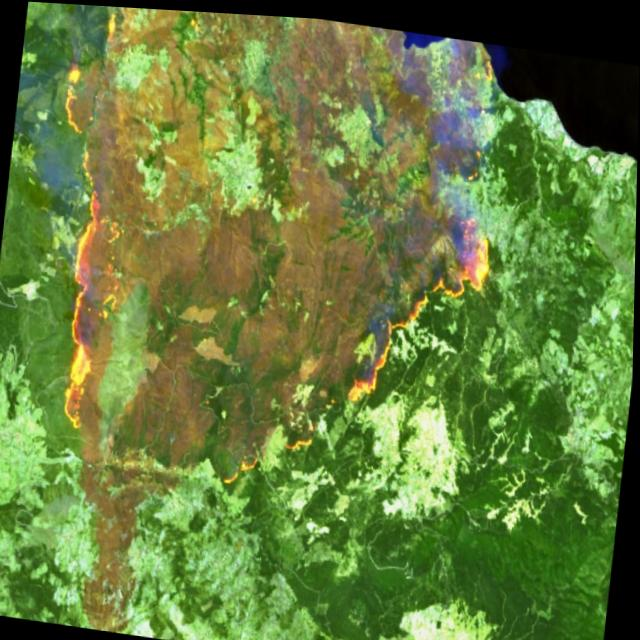fire: (215, 10, 521, 521), (22, 1, 182, 442)
